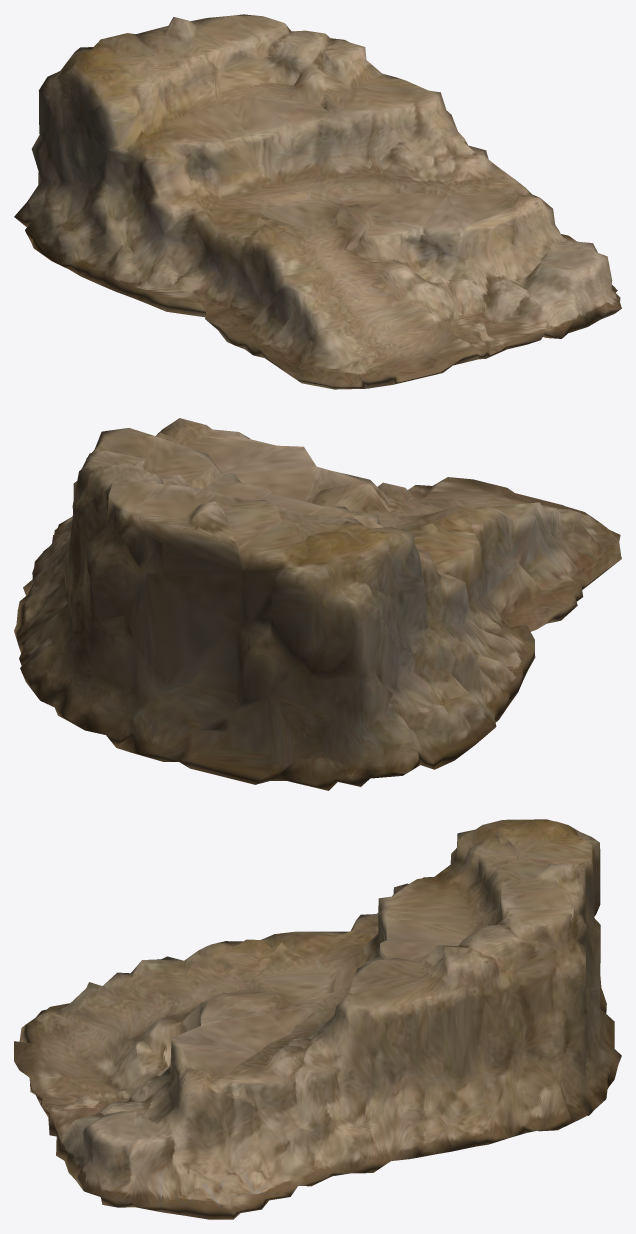
Rendered from quarry.glb.
3 views of the same model, one above another, from view 1: azimuth 30°, elevation 25°; view 2: azimuth 150°, elevation 25°; view 3: azimuth 270°, elevation 25° (orthographic). The views are drawn at different scales.
Visible parts, largest first — view 1: model; view 2: model; view 3: model.
Boxes of the visible parts, <box> form: model: <box>14,14,621,389</box>; model: <box>14,418,621,790</box>; model: <box>14,819,621,1219</box>.
Size of the model in its own units: 0.9138 by 0.3945 by 1.
Materials: 1 (1 with a texture image).
